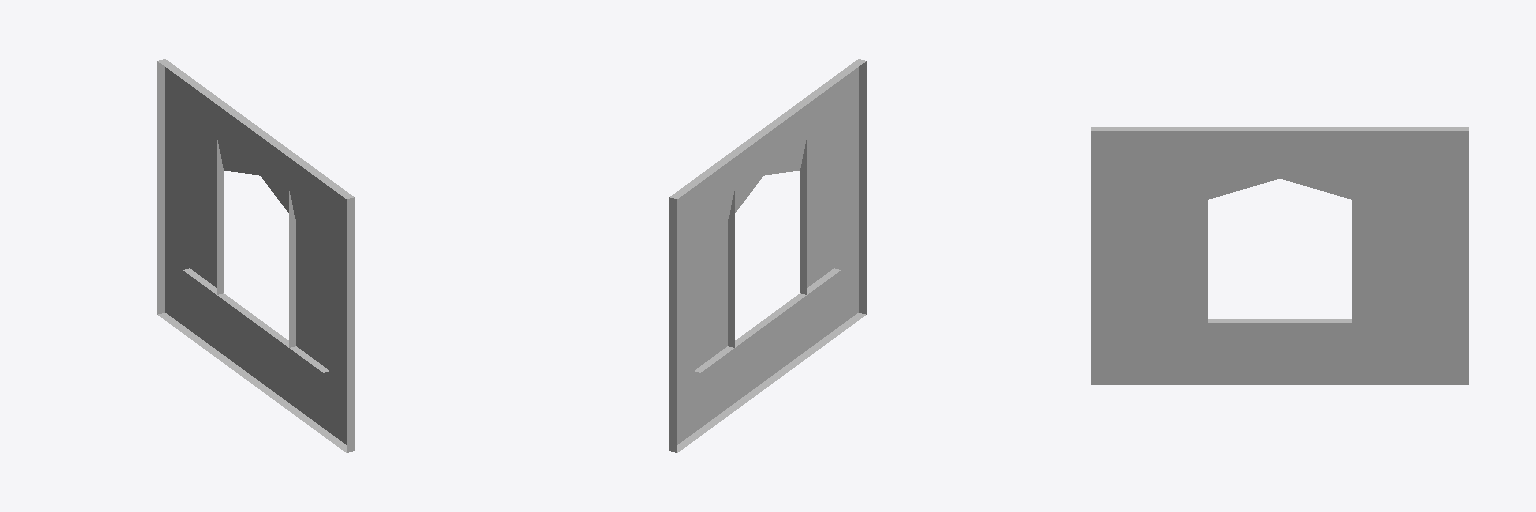
The model's file is window1.obj.
3 views of the same model, side by side, from view 1: azimuth 30°, elevation 25°; view 2: azimuth 150°, elevation 25°; view 3: azimuth 270°, elevation 25° (orthographic).
Visible parts, largest first — view 1: Cube.001; view 2: Cube.001; view 3: Cube.001.
Part boxes in pixels (x1,y1,x2,y2): Cube.001: (157, 59, 354, 452); Cube.001: (669, 59, 866, 452); Cube.001: (1091, 127, 1468, 384).
Size of the model in its own units: 0.6368 by 18.58 by 25.12.